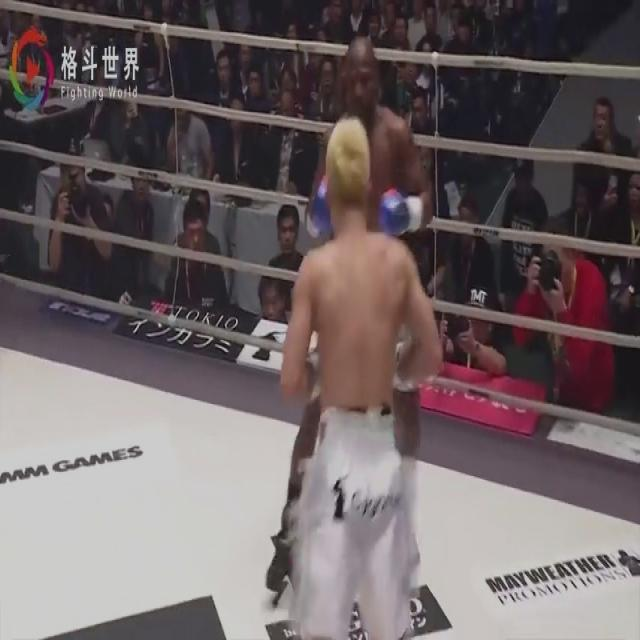fight: (262, 37, 448, 639)
